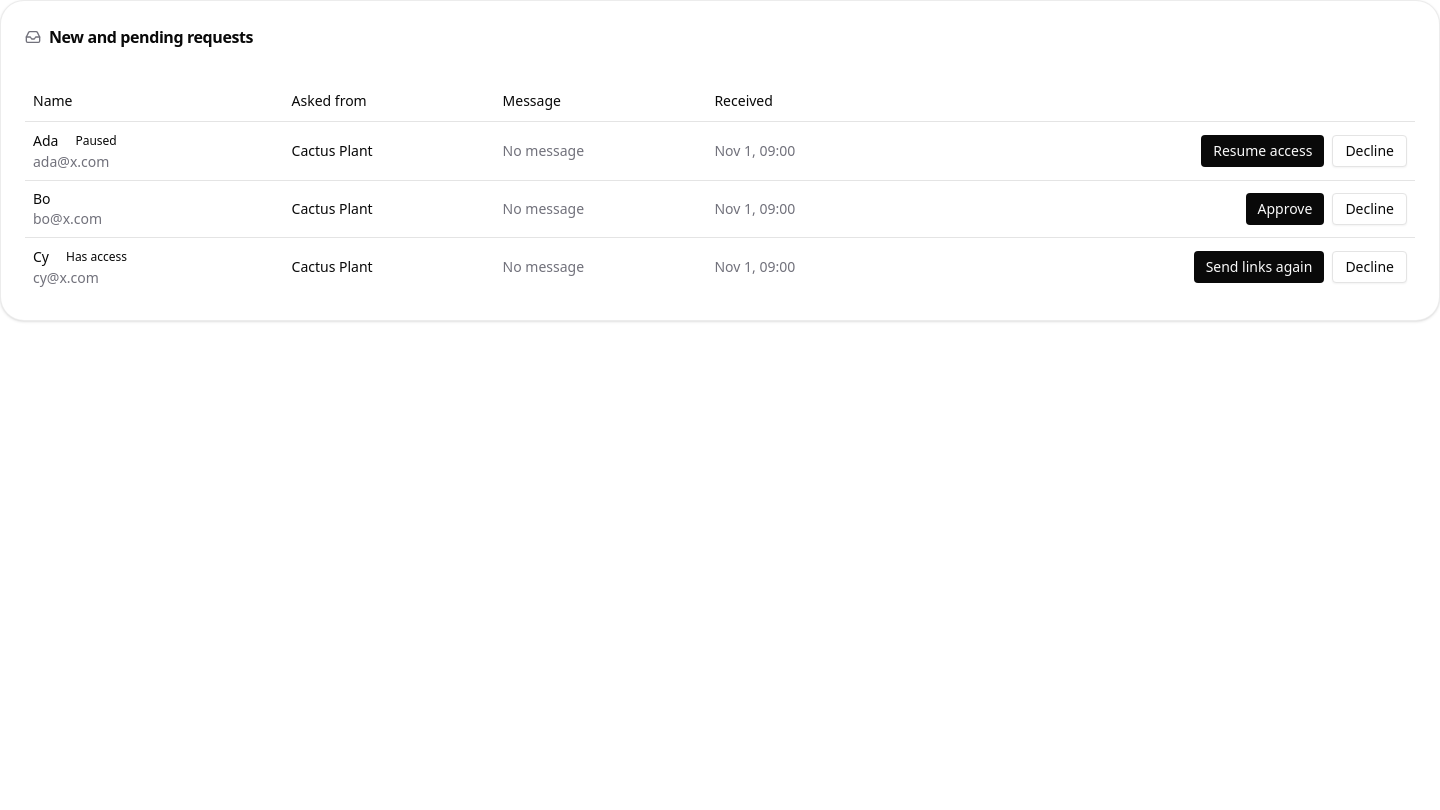
it: RequestsTable › Send links again goes straight to the message
Click the button "Send links again" at (1259, 266), box [1194, 250, 1324, 282]
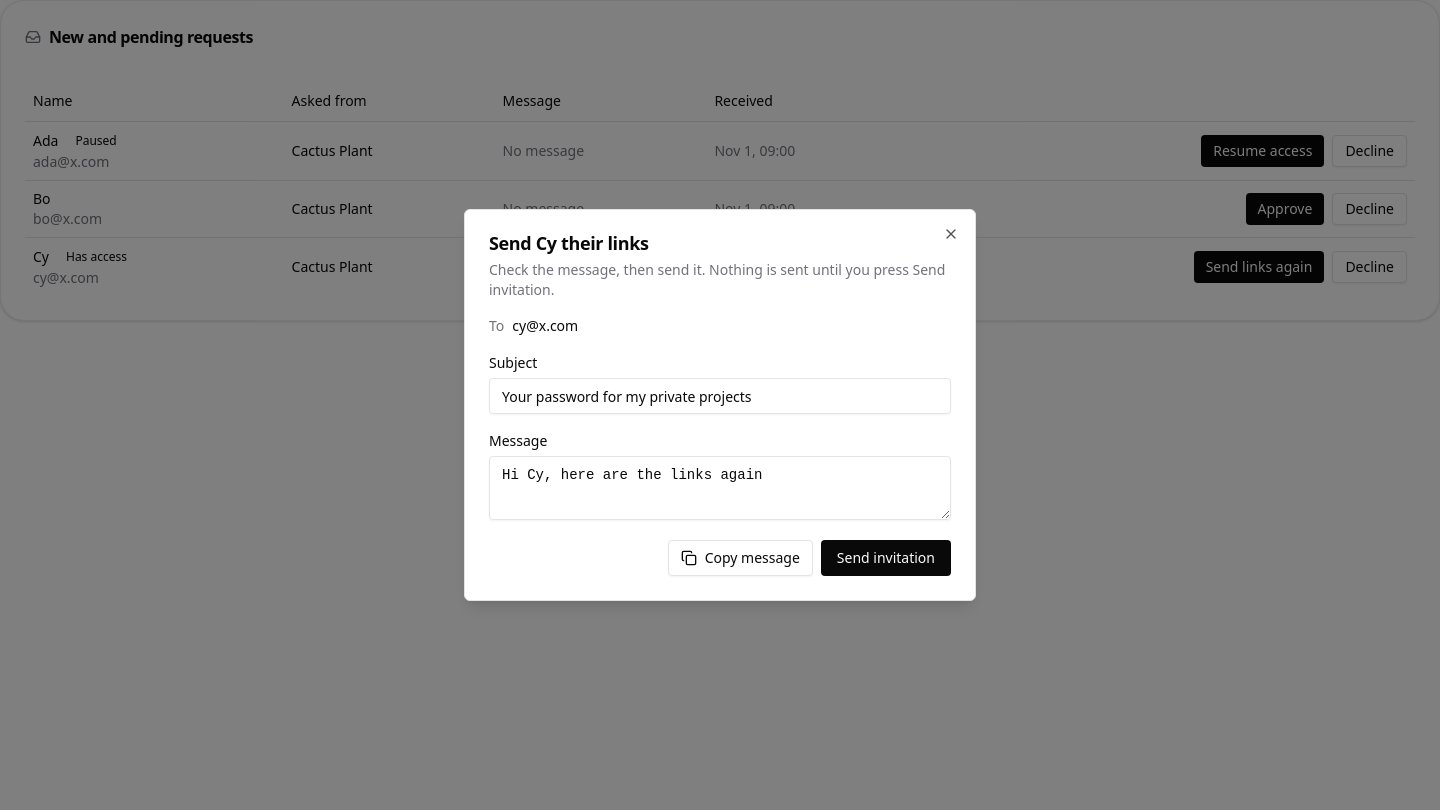
Result: the text box labelled "Message" holds "Hi Cy, here are the links again" at [489, 456, 951, 520]
